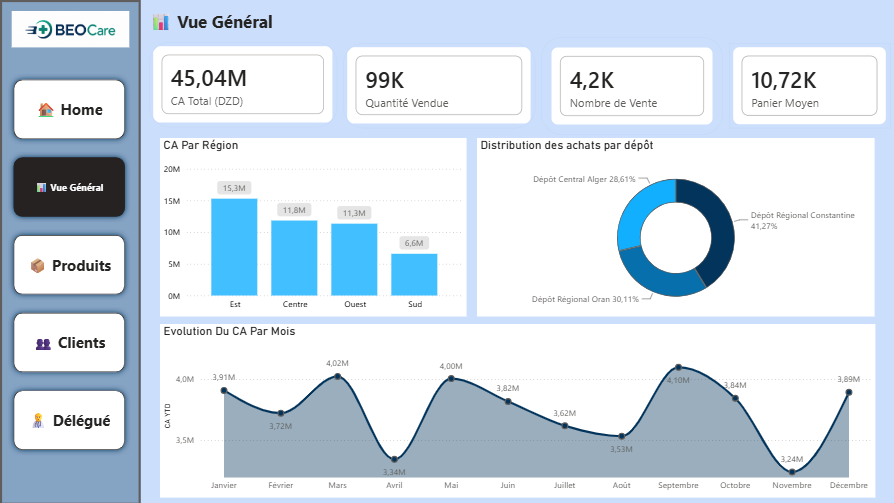

The dashboard page shown, as its layout file describes it:
{"tool":"powerbi","page":{"name":"📊 Vue Général","canvas":[1280,720],"ordinal":1},"visuals":[{"type":"cardVisual","fields":{"Data":["CountNonNull(Fait_Ventes.quantite_vendue)"]},"box":[773.4,52.9,260,140],"z":0},{"type":"cardVisual","fields":{"Data":["Fait_Ventes.Panier_Moyen"]},"box":[1042,61,231,122.1],"z":1000},{"type":"textbox","box":[208.4,8.4,229.5,47.4],"z":2000},{"type":"actionButton","box":[0,0,201,721.2],"z":3000},{"type":"lineChart","title":"Evolution Du CA Par Mois","fields":{"Category":["Dim_Temps.nom_mois"],"Y":["Dim_Temps.CA YTD"]},"box":[228.3,463.3,1021.7,248.3],"z":4000},{"type":"donutChart","title":"Distribution des achats par dépôt","fields":{"Category":["Fait_Achats.depot"],"Y":["Fait_Achats.Montant Achat"]},"box":[681.7,196.7,568.3,255],"z":5000},{"type":"cardVisual","title":"CA Total (DZD)","fields":{"Data":["Sum(Fait_Ventes.montant_net_dzd)"]},"box":[212.3,59.5,268.9,122],"z":6000},{"type":"cardVisual","fields":{"Data":["Sum(Fait_Ventes.quantite_vendue)"]},"box":[489.9,61.7,274.8,122],"z":7000},{"type":"image","box":[5.8,15.8,190,51.7],"z":10000},{"type":"columnChart","title":"CA Par Région","fields":{"Category":["Dim_Wilayas.region"],"Y":["Sum(Dim_Wilayas.CA_par_Wilaya)"]},"box":[228.3,196.7,438.3,255],"z":11000},{"type":"pageNavigator","box":[11.7,105,175,545],"z":12000}]}

Visuals, with their boxes in screenshot pixels (x1, y1, x2, y2), scaled from the page's 1280x720 canvas onto the 894x503 screenshot:
cardVisual - CountNonNull(Fait_Ventes.quantite_vendue): bbox(540, 37, 722, 135)
cardVisual - Fait_Ventes.Panier_Moyen: bbox(728, 43, 889, 128)
textbox: bbox(146, 6, 306, 39)
actionButton: bbox(0, 0, 140, 502)
"Evolution Du CA Par Mois" lineChart: bbox(159, 324, 873, 497)
"Distribution des achats par dépôt" donutChart: bbox(476, 137, 873, 316)
"CA Total (DZD)" cardVisual: bbox(148, 42, 336, 127)
cardVisual - Sum(Fait_Ventes.quantite_vendue): bbox(342, 43, 534, 128)
image: bbox(4, 11, 137, 47)
"CA Par Région" columnChart: bbox(159, 137, 466, 316)
pageNavigator: bbox(8, 73, 130, 454)
